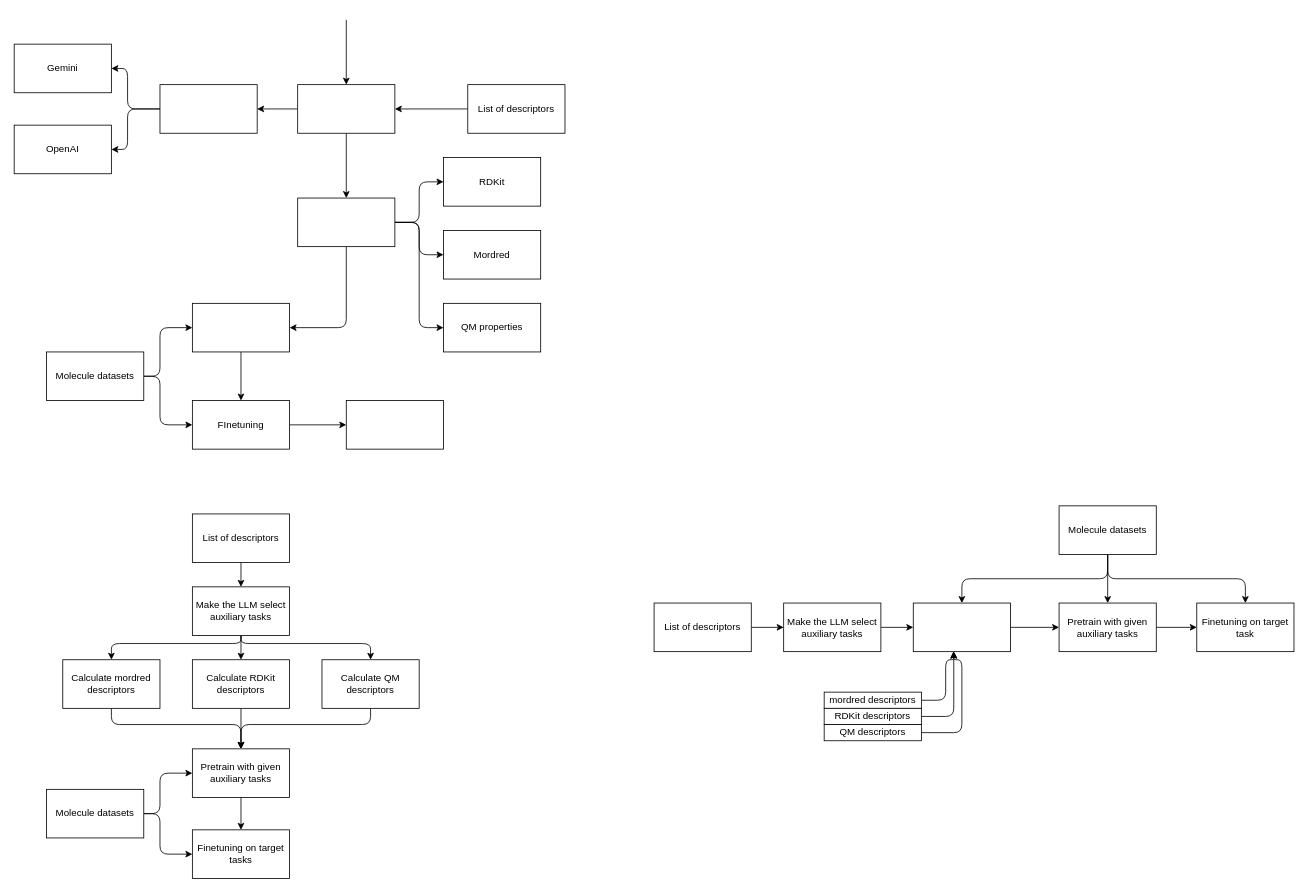
Image size: 1308x893. Some labels were removed from this diagram. Here are the shapes that lost their labels. From the top down, the centre of each, then its label:
(x=208, y=108): LLMClass
(x=346, y=108): Pipeline
(x=346, y=222): Descriptor calculations
(x=241, y=327): Pretraining
(x=394, y=424): Finished trained model
(x=961, y=627): Calculate values of auxiliary tasks
